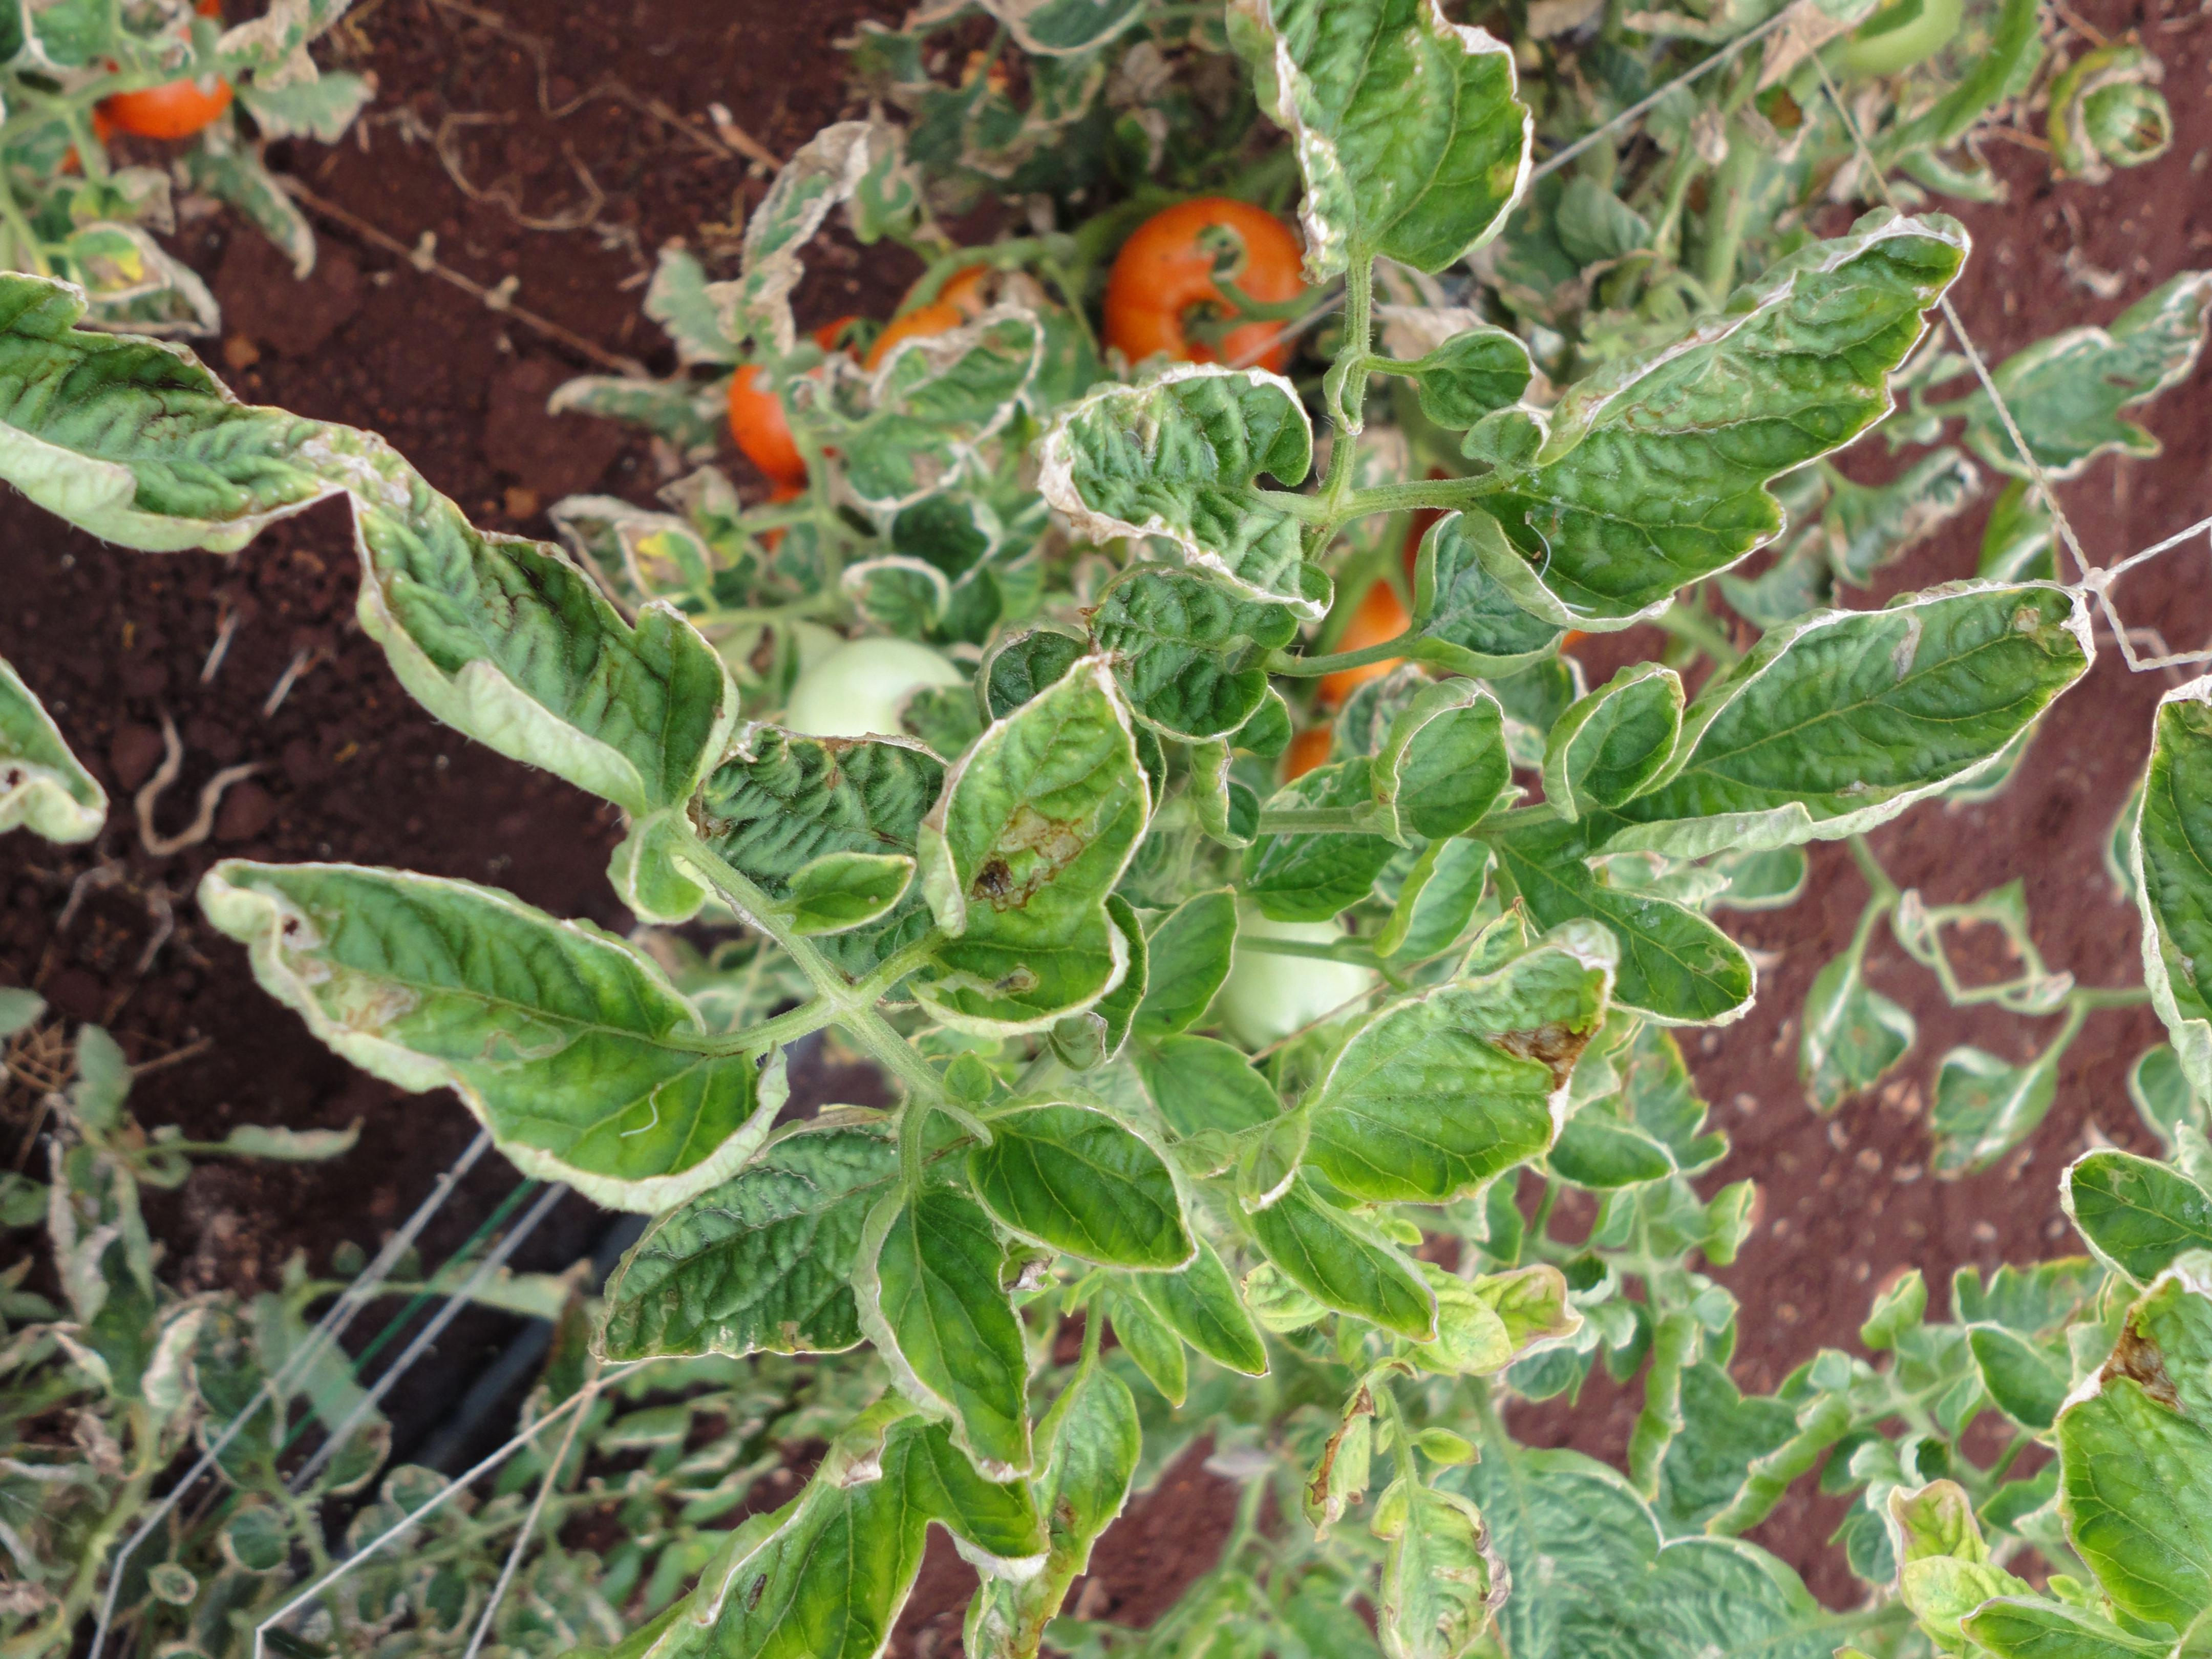Tomato leaf yellow virus: (1409, 357, 2134, 1136), (1453, 51, 2019, 751), (223, 362, 852, 955), (153, 749, 834, 1295), (1141, 791, 1693, 1415), (465, 1276, 1116, 1659), (845, 605, 1317, 1122), (900, 211, 1432, 666), (1049, 0, 1648, 343), (765, 1169, 1143, 1565), (907, 1046, 1258, 1384)
